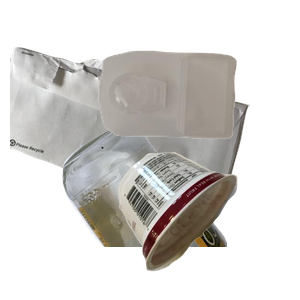glass: (60, 120, 300, 300)
paper: (10, 45, 250, 225)
plastic: (96, 48, 300, 179)
trash: (116, 149, 300, 300)
